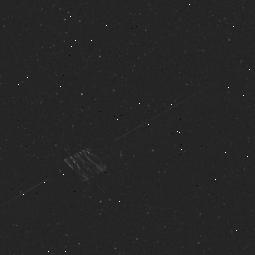smart_1: (31, 111, 165, 191)
